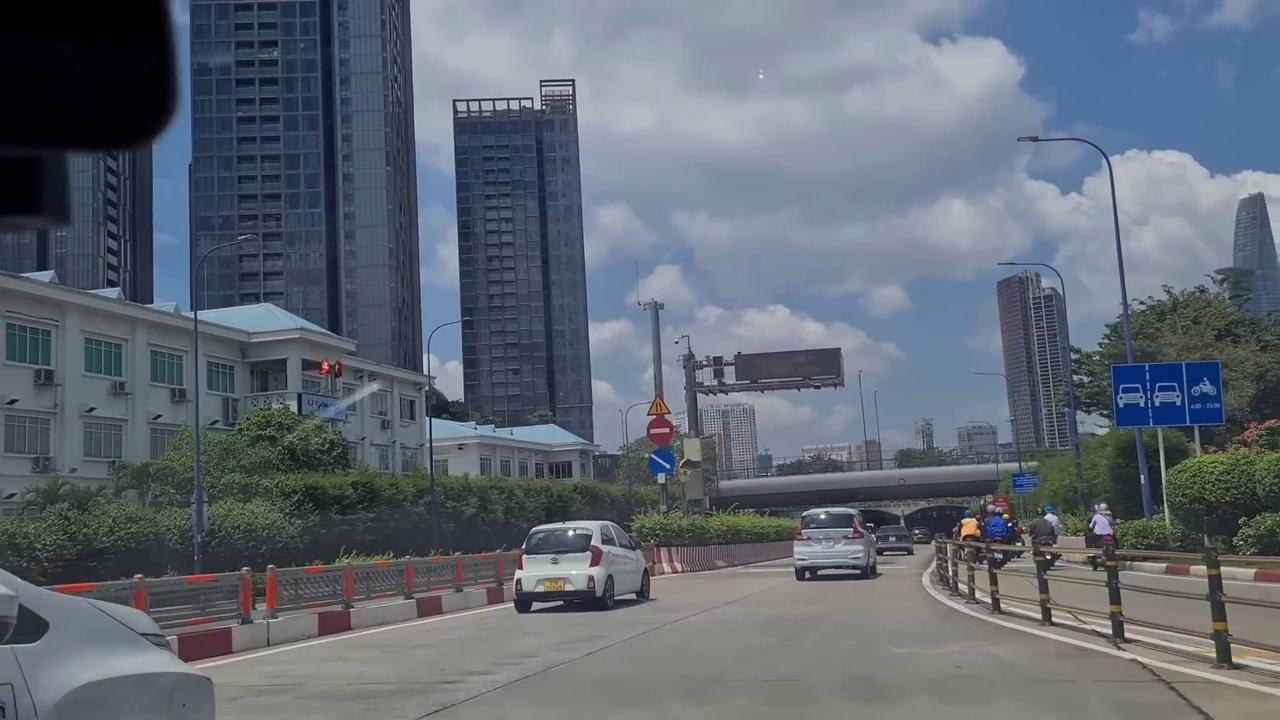Cấm đi ngược chiều: (645, 416, 676, 447)
Hướng phải đi vòng sang phải: (646, 447, 675, 477)
Làn đường cho từng xe: (1109, 359, 1227, 429)
Đuờng hẹp: (645, 393, 674, 416)
